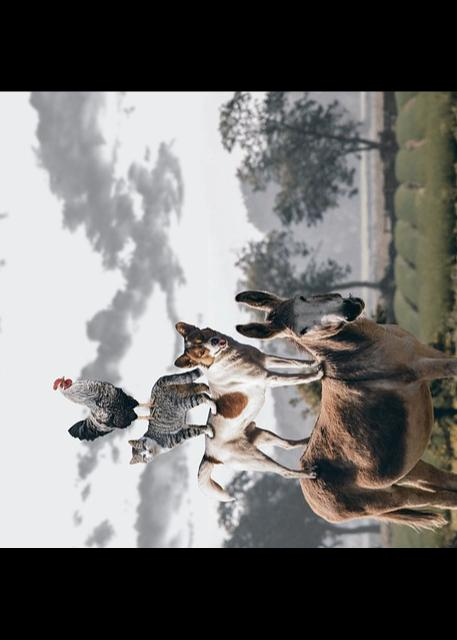Non_Gorille: (20, 257, 457, 521)
